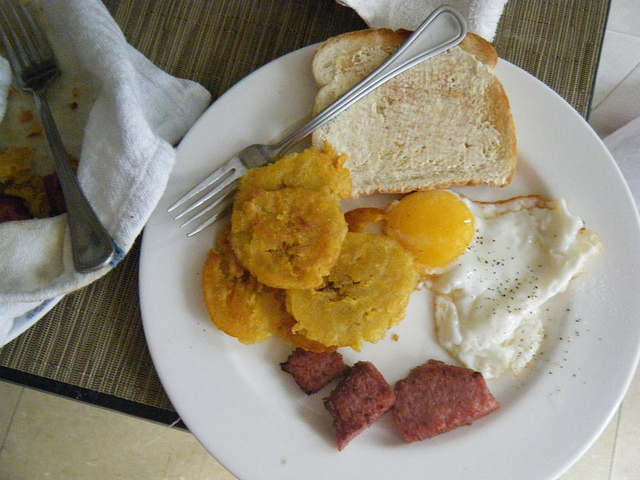fried egg: (392, 193, 609, 370)
slice of bread: (309, 32, 518, 193)
